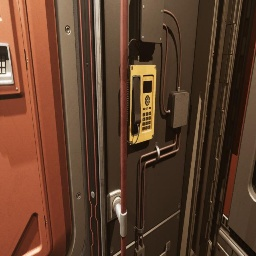EmergencyPhone ,: (127, 39, 156, 145)
